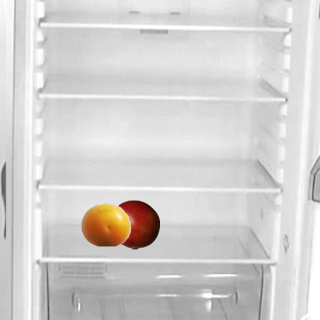Apple Braeburn: (109, 199, 159, 249)
Cherry Wax Yellow: (80, 199, 130, 249)
